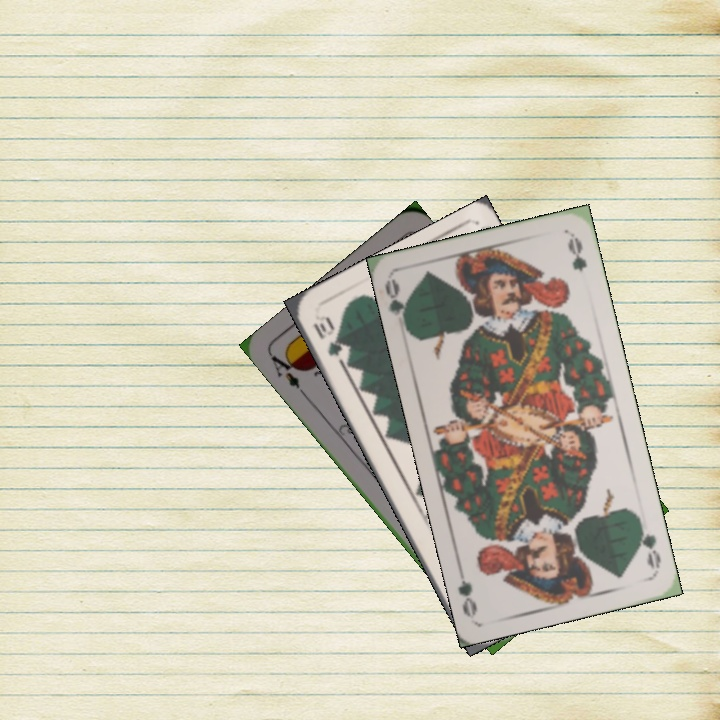EA: (266, 348, 309, 399)
G10: (309, 313, 346, 359)
GO: (380, 277, 413, 335), (634, 516, 664, 572)
